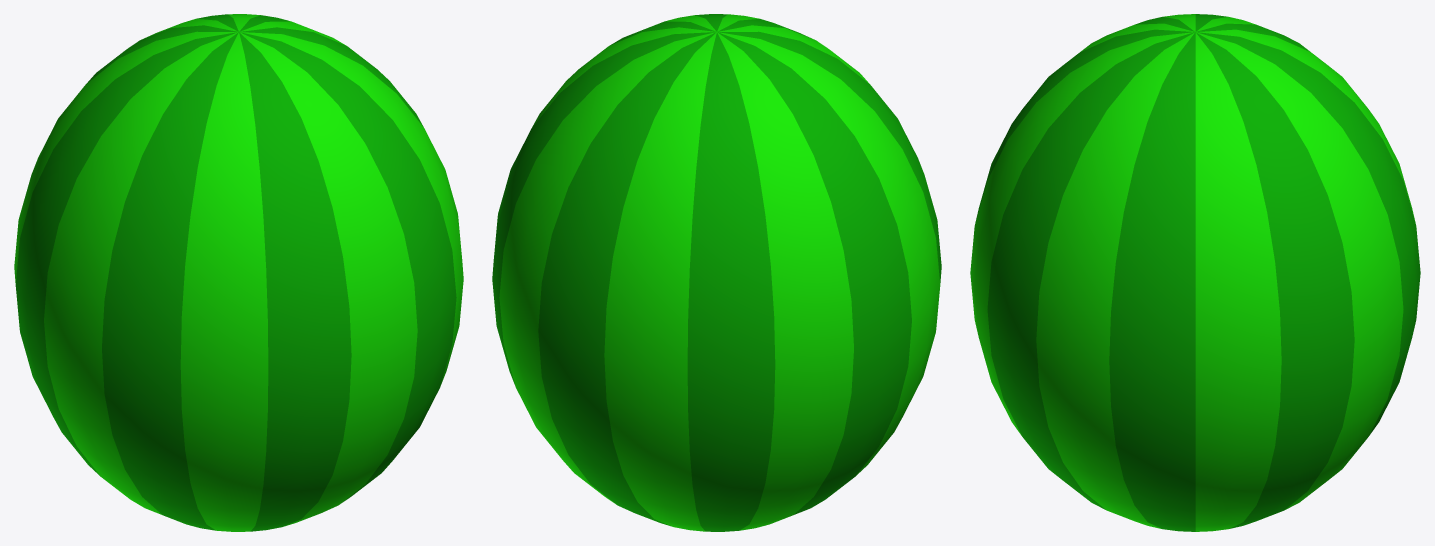
File: Fruit_Watermelon.fbx
The picture shows the model from 3 angles, left to right: view 1: azimuth 30°, elevation 25°; view 2: azimuth 150°, elevation 25°; view 3: azimuth 270°, elevation 25°; orthographic projection.
Visible parts, largest first — view 1: watermelon; view 2: watermelon; view 3: watermelon.
Boxes of the visible parts, x1=… form: watermelon: x1=14, y1=14, x2=463, y2=531; watermelon: x1=492, y1=14, x2=941, y2=531; watermelon: x1=970, y1=14, x2=1420, y2=531.
Size of the model in its own units: 200 by 236 by 200.
